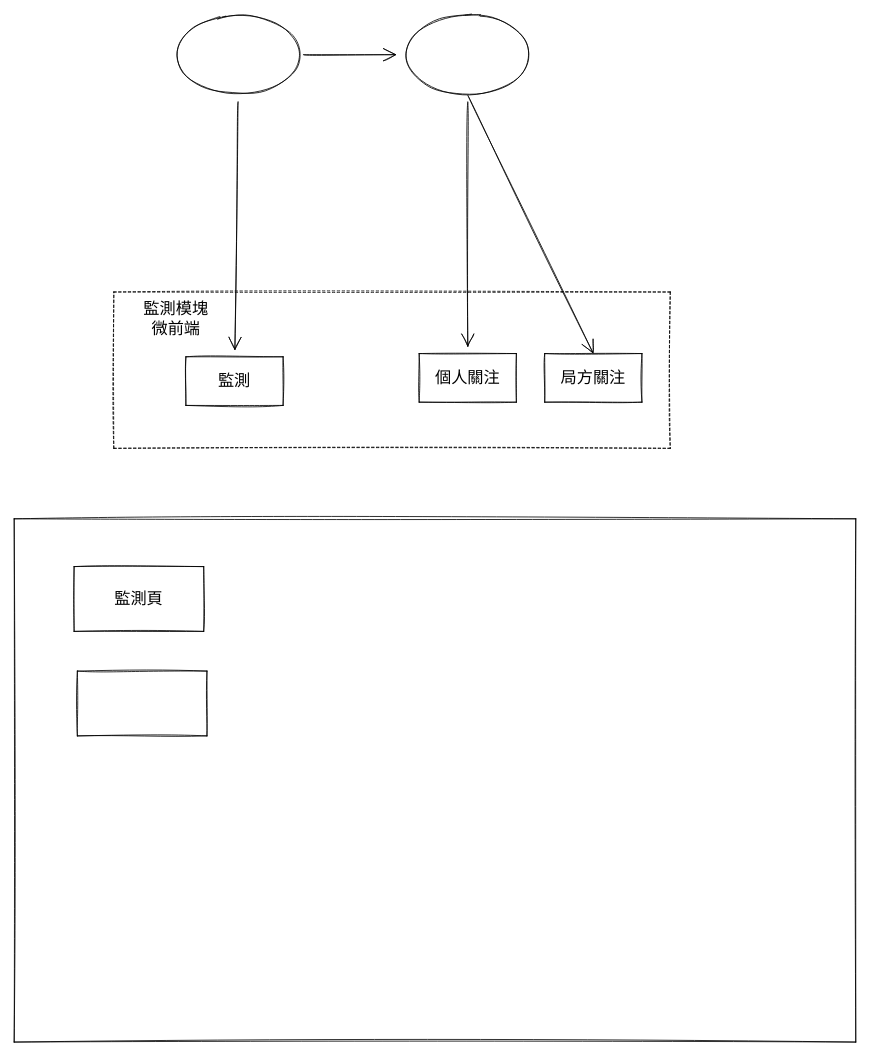
The diagram is 870 pixels wide and 1056 high, and some of its shapes have lost their labels. The centre of each missing label's shape, as x and y in pixels:
"GCS2" goes at point 467,54.
"pulse2.0" goes at point 238,54.
